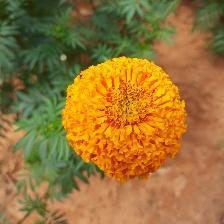marigold: (62, 54, 189, 185)
